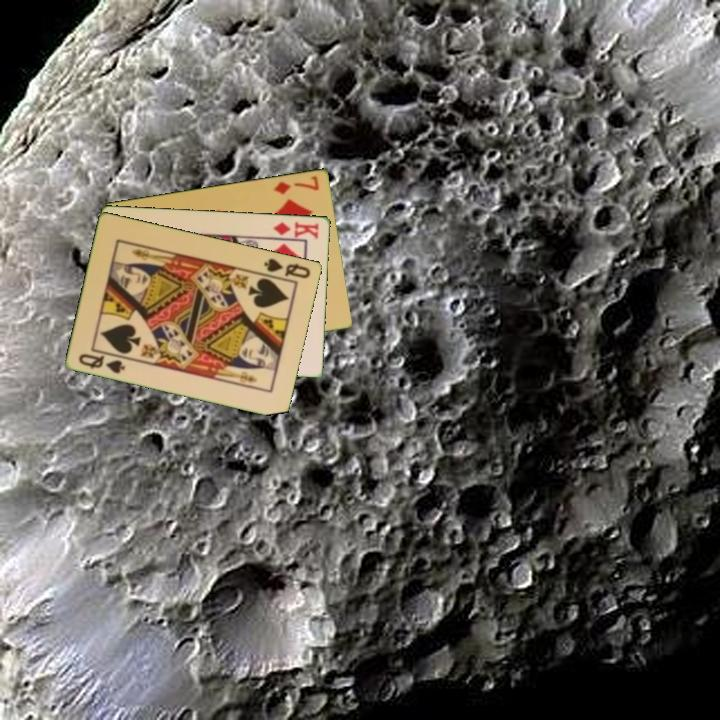7d: (270, 172, 322, 197)
Kd: (270, 218, 322, 242)
Qs: (75, 347, 130, 376), (261, 254, 314, 281)
